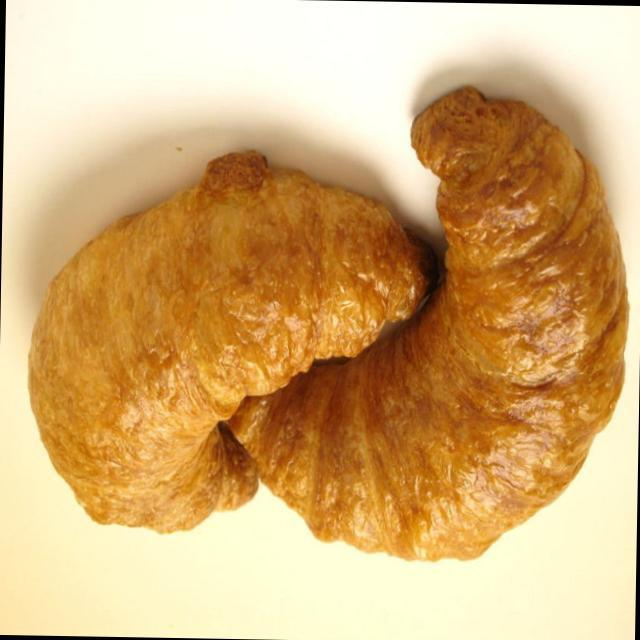Croissant: (216, 69, 640, 590)
